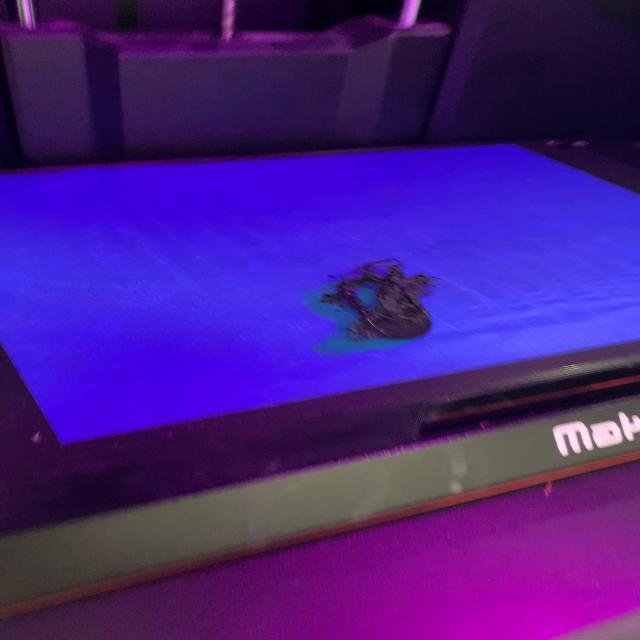spaghetti: (317, 257, 441, 343)
